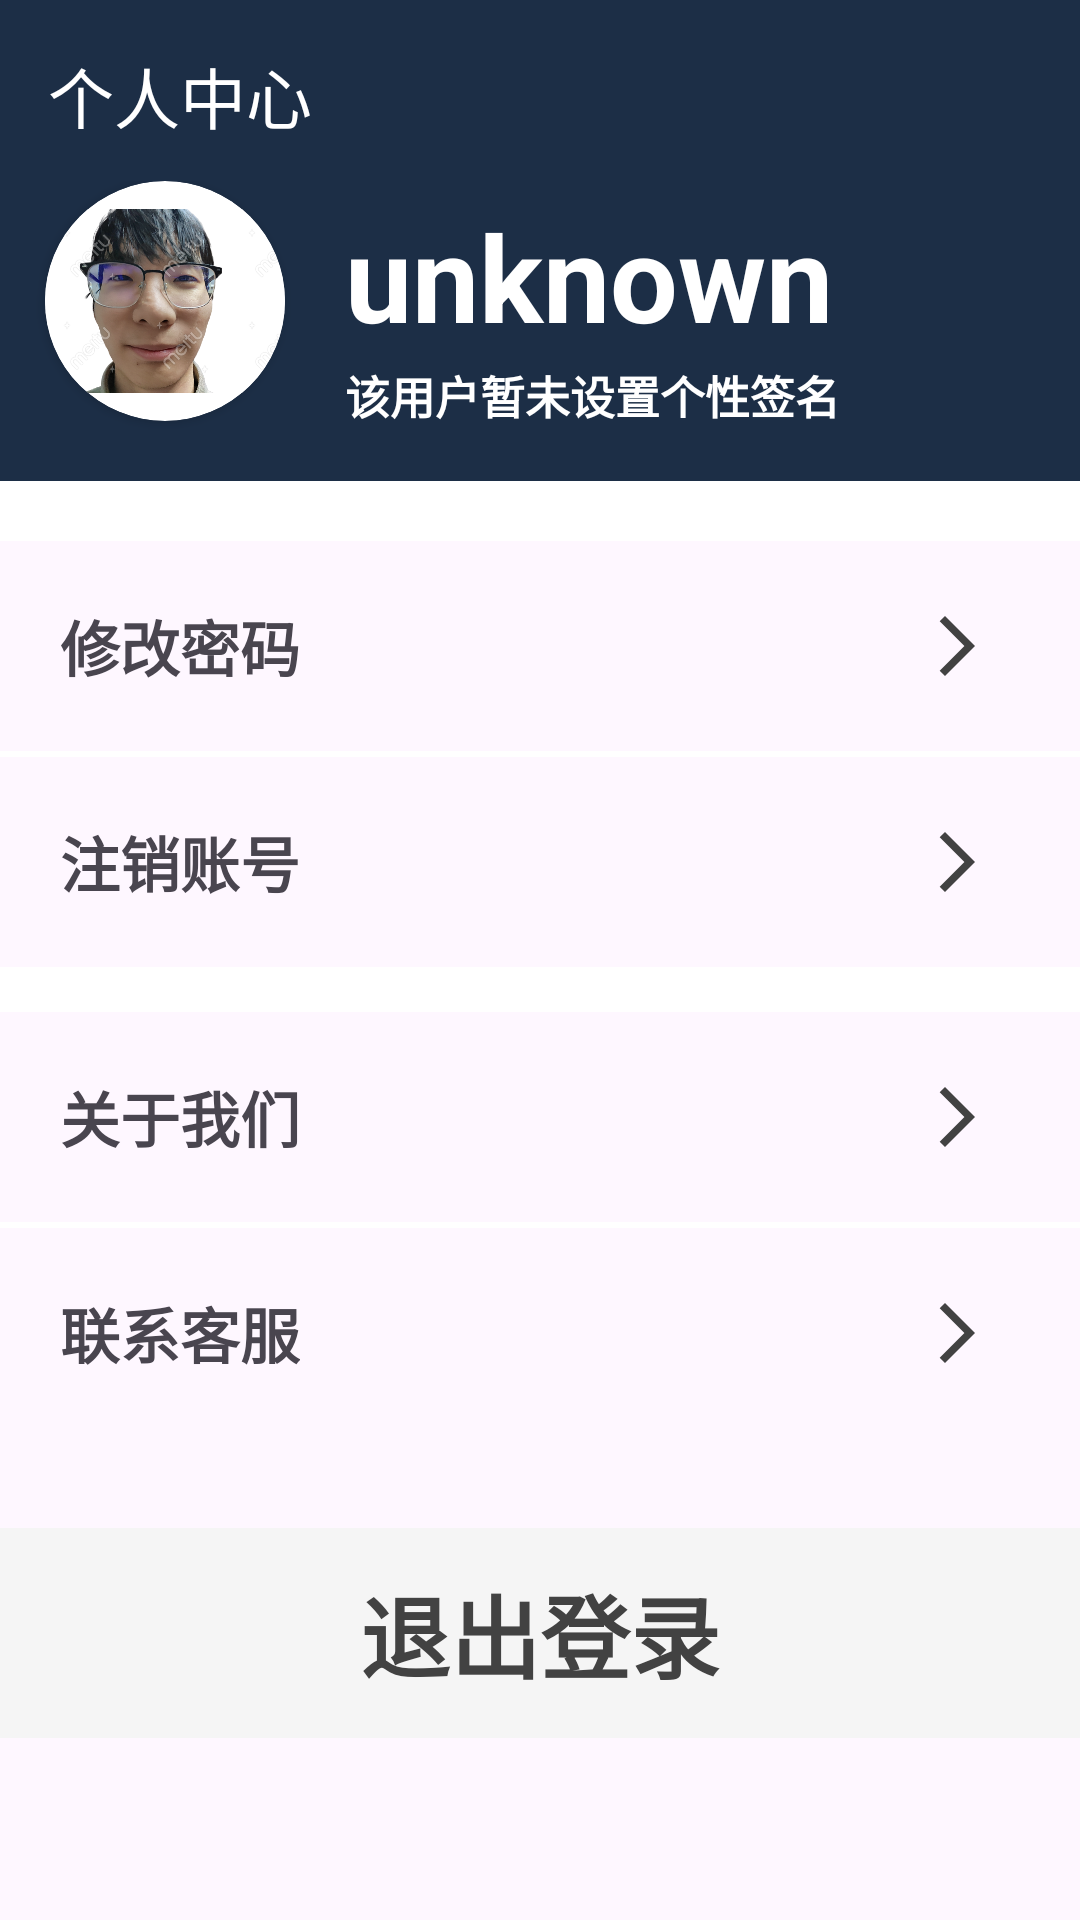

Icon bounding boxes for this 1080*1920 phone screenshot, format (x1, y1, x2, y2):
arrow forward: (940, 616, 975, 676), (940, 832, 975, 892), (940, 1087, 975, 1147), (940, 1303, 975, 1363)
face: (45, 181, 285, 421)
